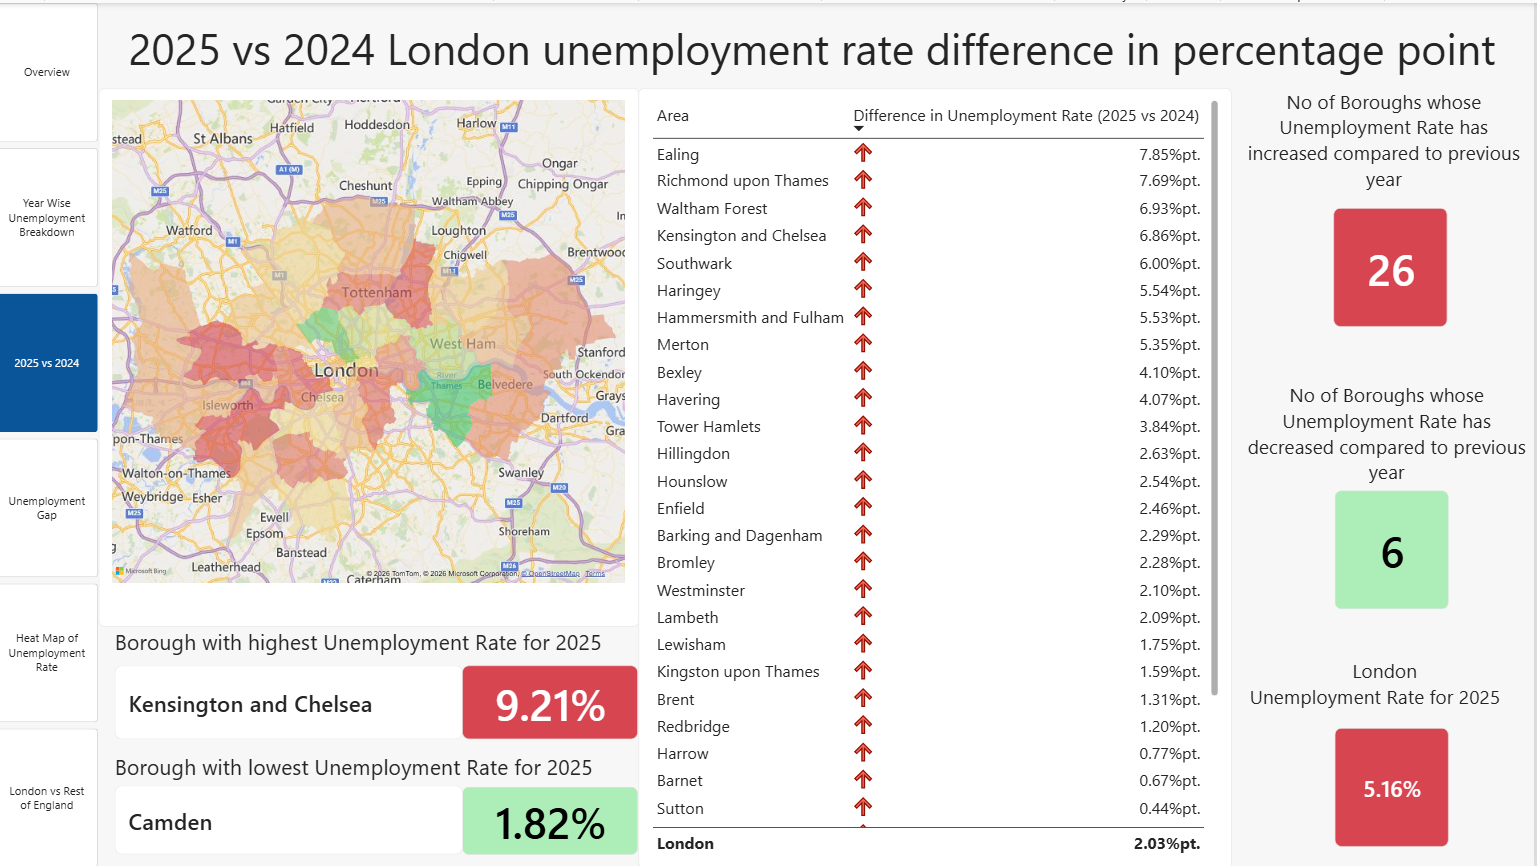

This screenshot's page, from the dashboard's own definition file:
{"tool":"powerbi","page":{"name":"2025 vs 2024","canvas":[1920,1080],"ordinal":2},"visuals":[{"type":"azureMap","fields":{"Category":["All_data.Country Hierarchy.Country","All_data.Country Hierarchy.City","All_data.Country Hierarchy.Area"]},"box":[128,106,674,672],"z":0},{"type":"tableEx","fields":{"Values":["All_data.Area","All_data.Unemployment Rate Difference"]},"box":[802,106,740,974],"z":1000},{"type":"cardVisual","fields":{"Data":["All_data.Unemployment Increase Boroughs"]},"box":[1668,256,142,148],"z":2000},{"type":"cardVisual","fields":{"Data":["All_data.Highest Unemployment Borough"]},"box":[148,826,434.3,92.6],"z":3000},{"type":"cardVisual","fields":{"Data":["All_data.Highest Unemployment Borough Rate"]},"box":[582,826,219.8,92.4],"z":4000},{"type":"cardVisual","fields":{"Data":["All_data.Lowest Unemployment Borough Rate"]},"box":[582,978,219.8,85.5],"z":5000},{"type":"cardVisual","fields":{"Data":["All_data.Lowest Unemployment Borough Name"]},"box":[148,976,434.3,86.4],"z":6000},{"type":"cardVisual","fields":{"Data":["All_data.London Unemployment Latest or Borough"]},"box":[1670,904,142,148],"z":7000},{"type":"textbox","box":[1558,106,347.1,136],"z":8000},{"type":"textbox","box":[1564,848,337.6,32.9],"z":9000},{"type":"textbox","box":[1550,472,369.8,136],"z":10000},{"type":"cardVisual","fields":{"Data":["All_data.No of Boroughs whose Unemployment has decreased Compared to previous Year"]},"box":[1670,608,142,148],"z":11000},{"type":"textbox","box":[148,778,622.7,48.8],"z":12000},{"type":"textbox","box":[148,934,654.1,36.6],"z":13000},{"type":"textbox","box":[164.7,20.6,1712.5,86.4],"z":14000},{"type":"pageNavigator","box":[0,0,127.6,1080.6],"z":15000},{"type":"cardVisual","fields":{"Data":["All_data.London or Borough"]},"box":[1564,802,337.6,61.7],"z":16000}]}

Visuals, with their boxes on the page's 1920x1080 design canvas (x1, y1, x2, y2). These are canvas units, not pixel positions in the 1537x866 screenshot, which may show the page scaled, cropped or inside an application window:
azureMap - All_data.Country Hierarchy.Country x All_data.Country Hierarchy.City: [left=128, top=106, right=802, bottom=778]
tableEx - All_data.Area x All_data.Unemployment Rate Difference: [left=802, top=106, right=1542, bottom=1080]
cardVisual - All_data.Unemployment Increase Boroughs: [left=1668, top=256, right=1810, bottom=404]
cardVisual - All_data.Highest Unemployment Borough: [left=148, top=826, right=582, bottom=919]
cardVisual - All_data.Highest Unemployment Borough Rate: [left=582, top=826, right=802, bottom=918]
cardVisual - All_data.Lowest Unemployment Borough Rate: [left=582, top=978, right=802, bottom=1064]
cardVisual - All_data.Lowest Unemployment Borough Name: [left=148, top=976, right=582, bottom=1062]
cardVisual - All_data.London Unemployment Latest or Borough: [left=1670, top=904, right=1812, bottom=1052]
textbox: [left=1558, top=106, right=1905, bottom=242]
textbox: [left=1564, top=848, right=1902, bottom=881]
textbox: [left=1550, top=472, right=1920, bottom=608]
cardVisual - All_data.No of Boroughs whose Unemployment has decreased Compared to previous Year: [left=1670, top=608, right=1812, bottom=756]
textbox: [left=148, top=778, right=771, bottom=827]
textbox: [left=148, top=934, right=802, bottom=971]
textbox: [left=165, top=21, right=1877, bottom=107]
pageNavigator: [left=0, top=0, right=128, bottom=1081]
cardVisual - All_data.London or Borough: [left=1564, top=802, right=1902, bottom=864]
